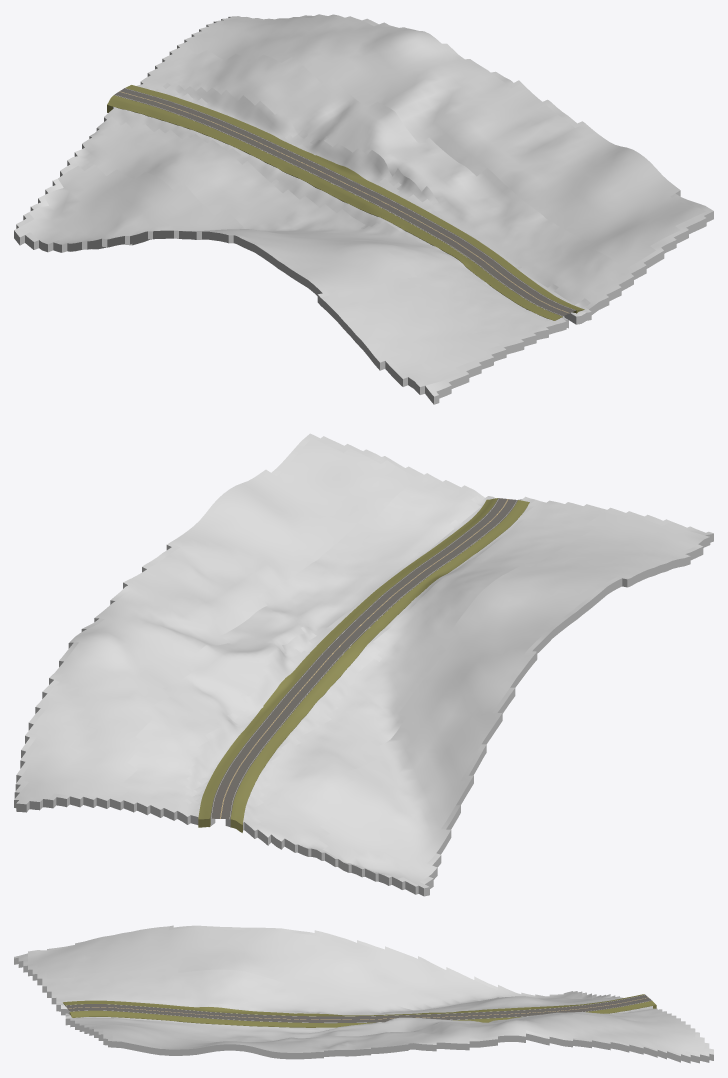
The model's file is conz_153.glb.
The picture shows the model from 3 angles, top to bottom: view 1: azimuth 30°, elevation 25°; view 2: azimuth 150°, elevation 25°; view 3: azimuth 270°, elevation 25°; orthographic projection. The views are drawn at different scales.
Visible parts, largest first — view 1: terrain153, road153, verge153L, verge153R, paint_white153; view 2: terrain153, road153, verge153L, verge153R; view 3: terrain153, road153, verge153R, verge153L, paint_yellow153, paint_white153.
Part boxes in pixels (bbox=[...]): terrain153: bbox=[14, 14, 713, 404]; road153: bbox=[114, 88, 576, 316]; verge153L: bbox=[107, 95, 562, 320]; verge153R: bbox=[125, 85, 584, 313]; paint_white153: bbox=[114, 88, 575, 315]; terrain153: bbox=[14, 433, 713, 896]; road153: bbox=[210, 498, 517, 819]; verge153L: bbox=[230, 500, 529, 832]; verge153R: bbox=[198, 498, 497, 827]; terrain153: bbox=[14, 925, 713, 1063]; road153: bbox=[65, 994, 651, 1022]; verge153R: bbox=[69, 1001, 656, 1027]; verge153L: bbox=[63, 994, 644, 1016]; paint_yellow153: bbox=[69, 997, 648, 1019]; paint_white153: bbox=[66, 995, 651, 1022].
Size of the model in its own units: 160 by 54.34 by 298.
